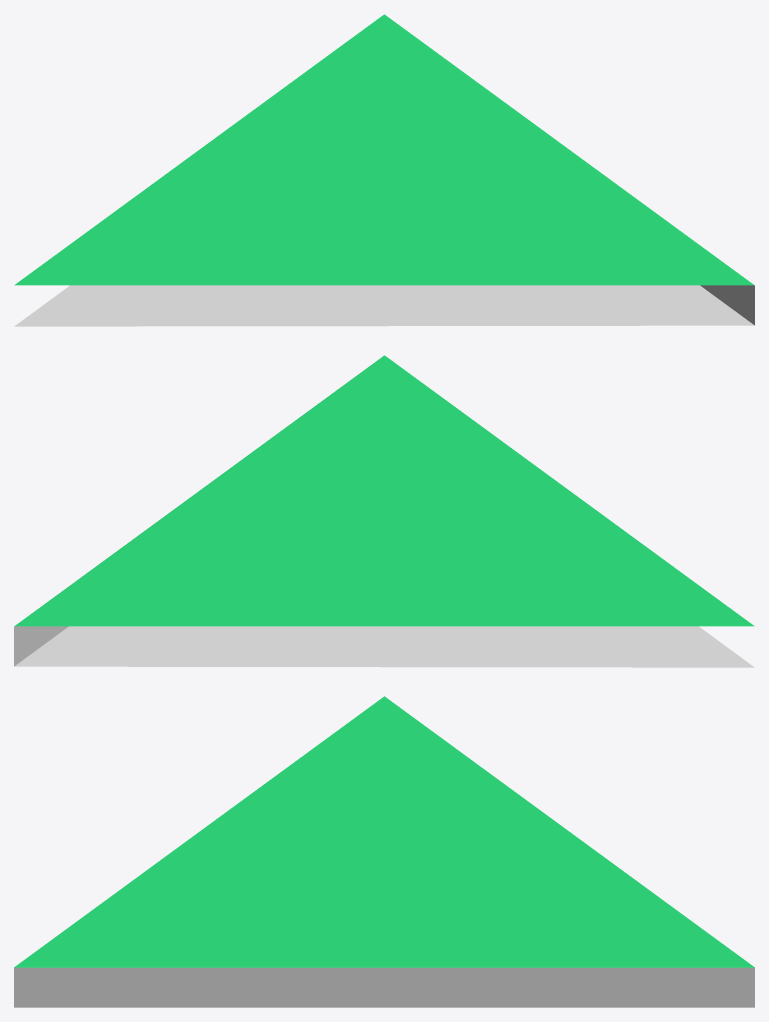
File: hex_slice.fbx
3 views of the same model, one above another, from view 1: azimuth 30°, elevation 25°; view 2: azimuth 150°, elevation 25°; view 3: azimuth 270°, elevation 25° (orthographic).
Parts seen in each view (by area): view 1: slice; view 2: slice; view 3: slice.
Boxes of the visible parts, bbox=[...] form: slice: bbox=[14, 14, 754, 326]; slice: bbox=[14, 355, 754, 667]; slice: bbox=[14, 696, 754, 1007].
Bounding box in the file's own units: 86.6 × 6.15 × 100.
